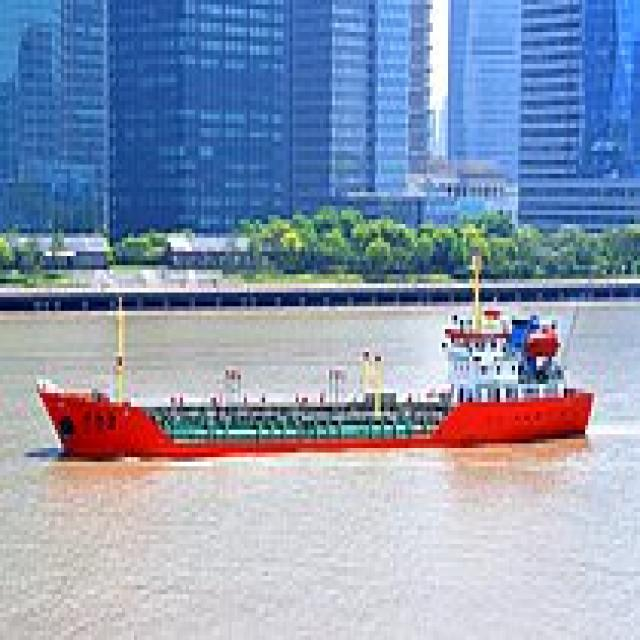Tanker: (31, 238, 592, 462)
